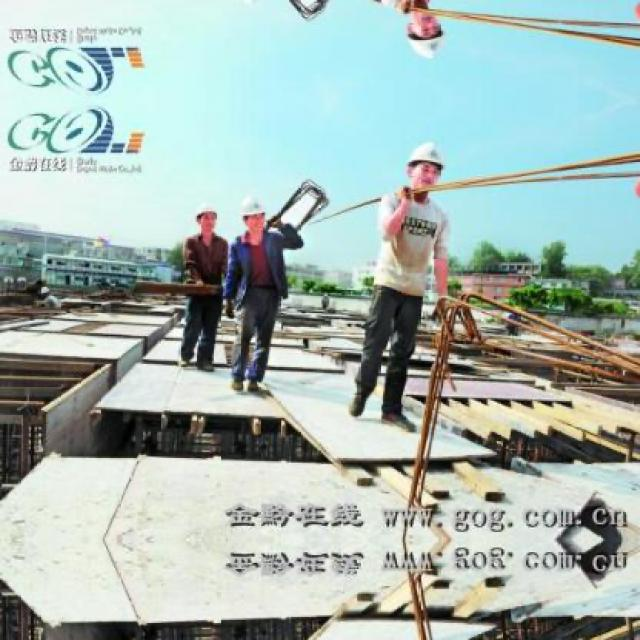helmet: (403, 134, 451, 196), (403, 5, 451, 66), (236, 193, 264, 237), (192, 203, 223, 234), (233, 0, 264, 9)
